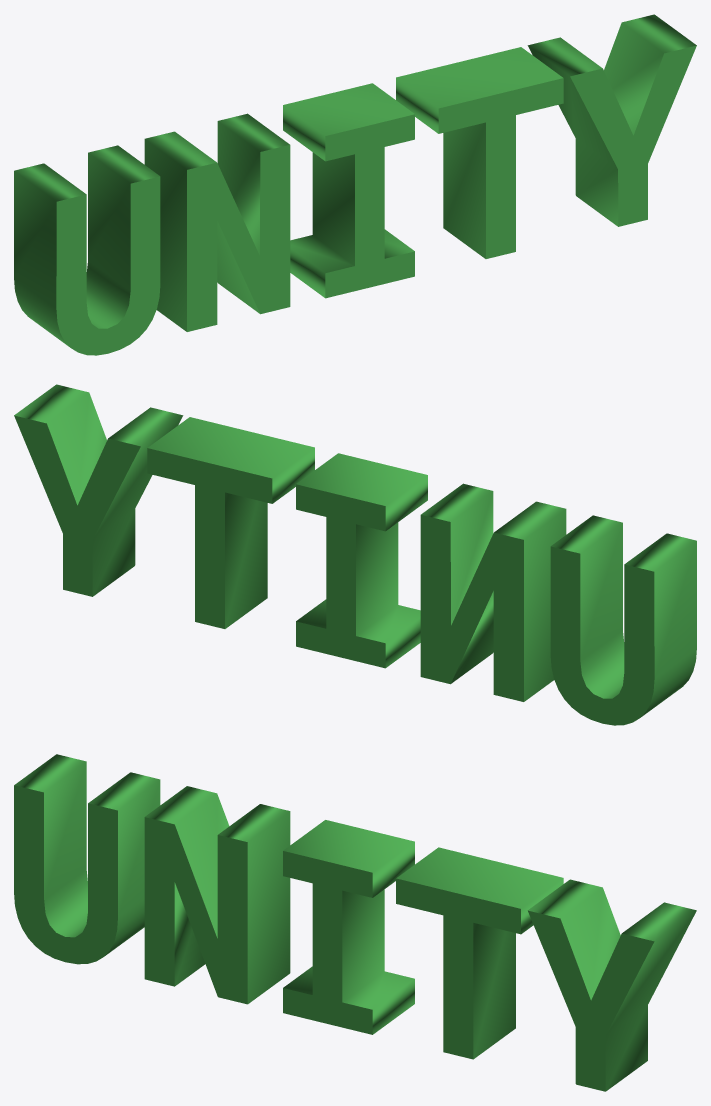
Rendered from Unity.fbx.
3 views of the same model, one above another, from view 1: azimuth 30°, elevation 25°; view 2: azimuth 150°, elevation 25°; view 3: azimuth 330°, elevation 25° (orthographic).
Visible parts, largest first — view 1: $ColladaAutoName$_1; view 2: $ColladaAutoName$_1; view 3: $ColladaAutoName$_1.
Boxes of the visible parts, x1,y1,x2,y2 form: $ColladaAutoName$_1: [14, 14, 696, 355]; $ColladaAutoName$_1: [14, 384, 696, 725]; $ColladaAutoName$_1: [14, 754, 696, 1091].
Bounding box in the file's own units: 408 × 100 × 46.8.
